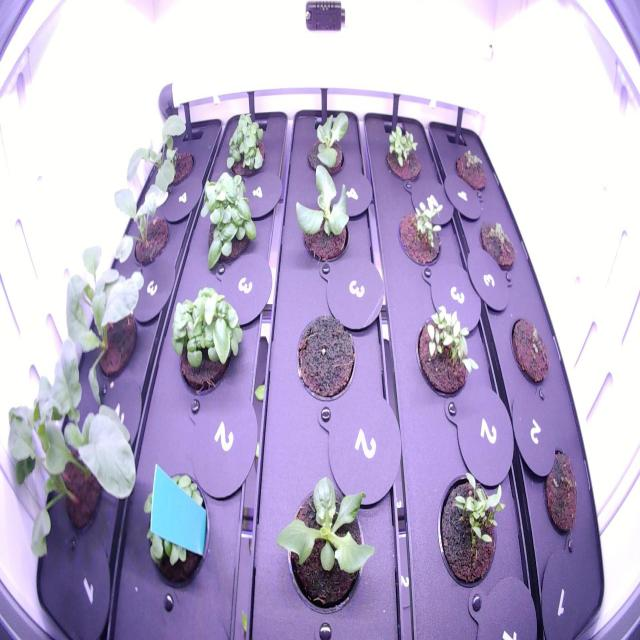germination: (436, 462, 510, 599), (412, 293, 481, 407), (534, 435, 586, 544), (390, 187, 450, 273), (506, 307, 553, 393), (380, 115, 428, 188), (474, 214, 522, 280), (451, 141, 491, 195)
pod: (288, 308, 358, 409)
young: (269, 466, 379, 624), (286, 157, 356, 270), (294, 104, 355, 184)
